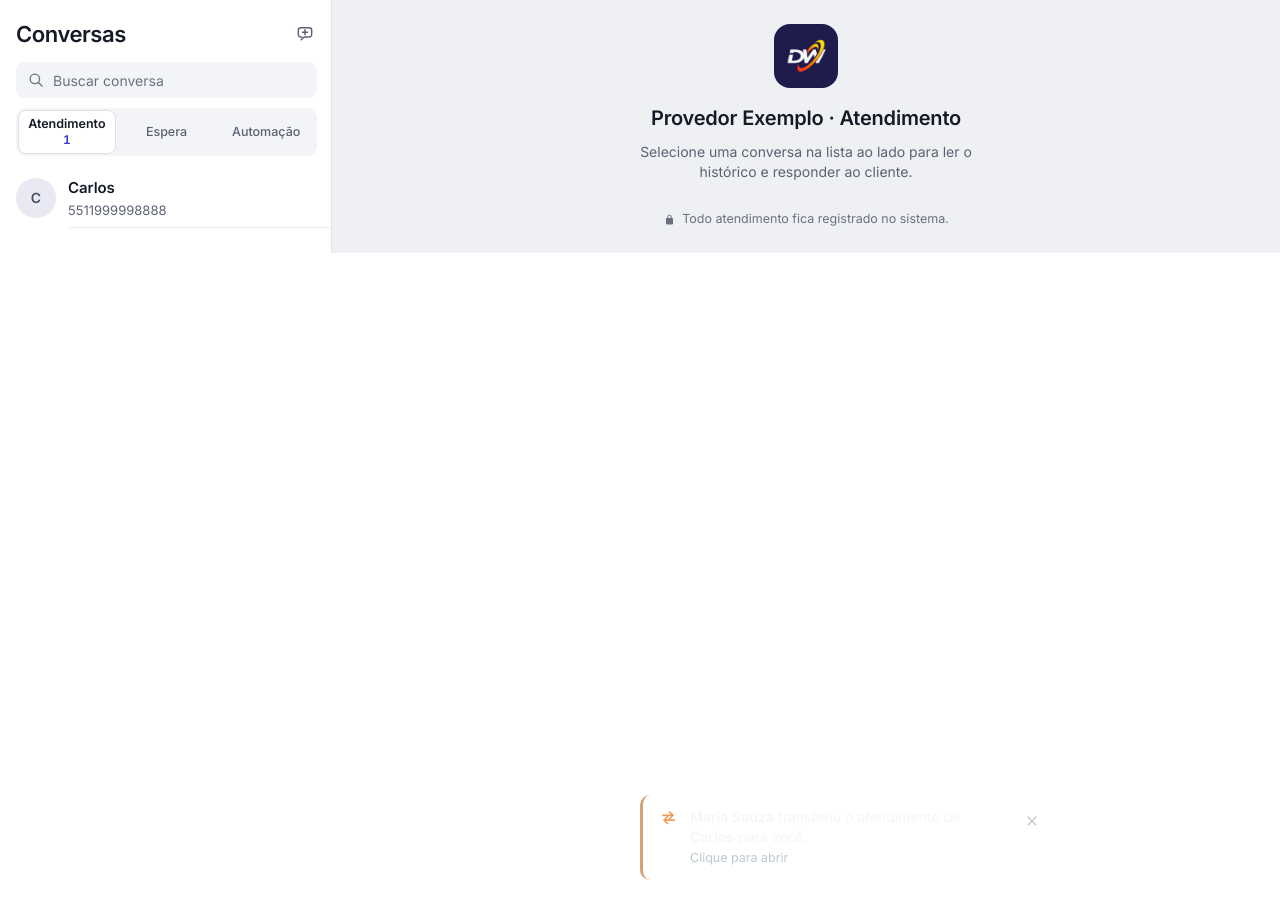
Test: aviso de transferência recebida › clicar no aviso abre a conversa transferida e dispensa o aviso
expect the text "Provedor Exemplo · Atendimento" is shown: met, box [651, 104, 961, 132]
What coordinates should you click on to do the following:
click the button with aria-label "abrir o atendimento"
I would click on:
 (732, 817)
Its box is [690, 807, 1008, 868].
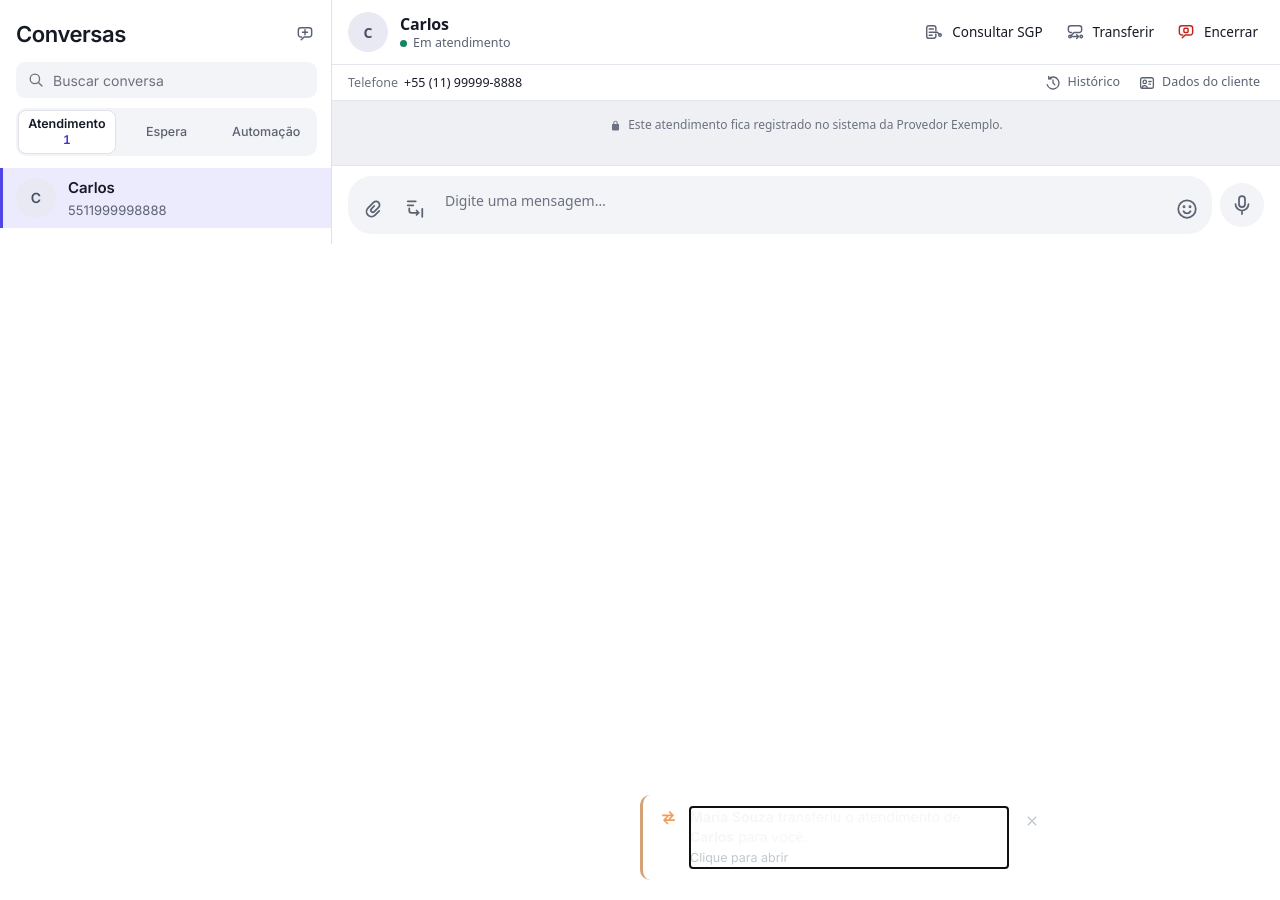
expect the text "Provedor Exemplo · Atendimento" is gone: met
expect the 1st text titled "5511999998888" reads "Carlos": met, box [400, 13, 449, 35]
